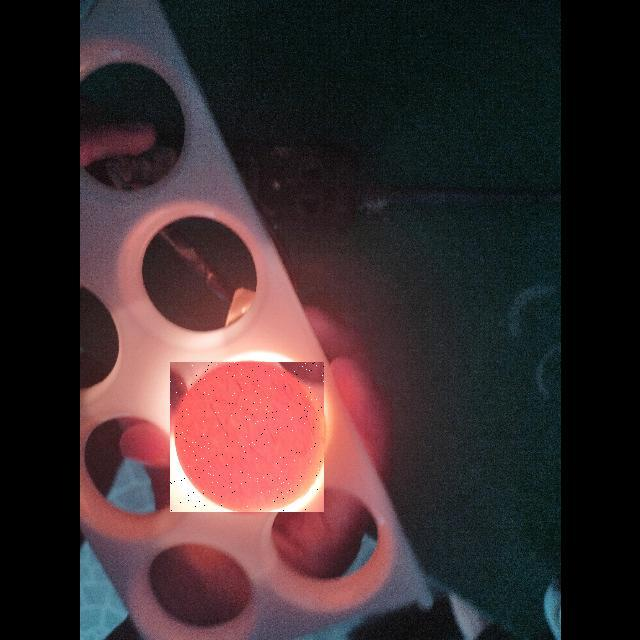A - Good: (170, 362, 324, 512)
